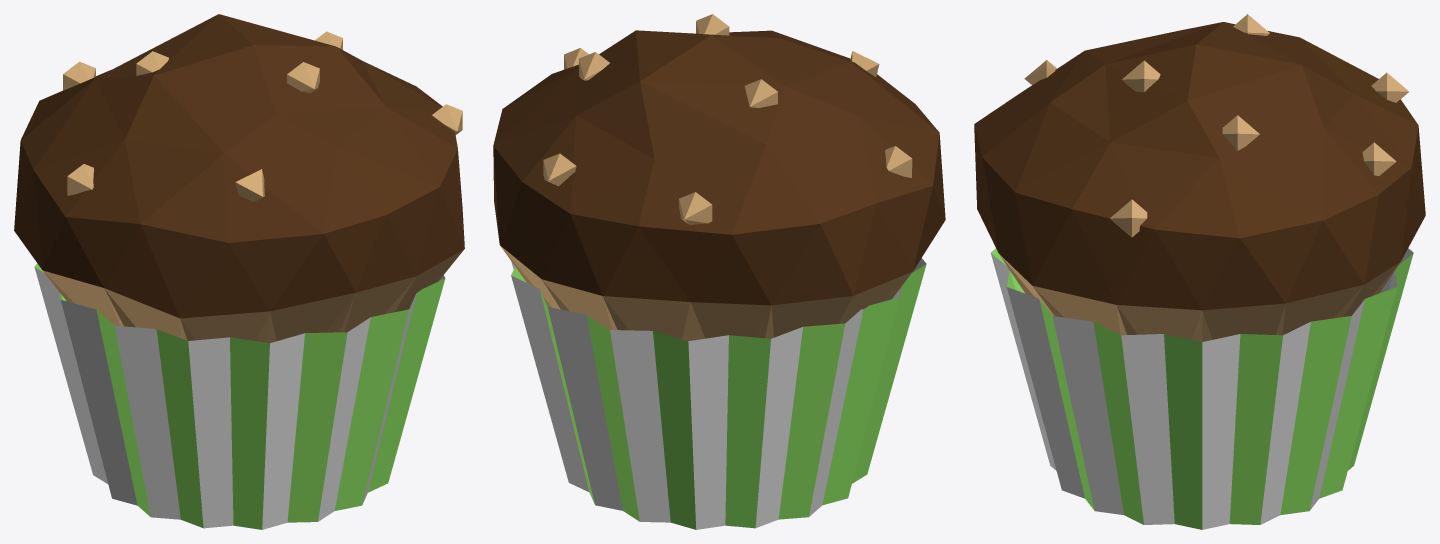
Rendered from muffin_choco_nuts.fbx.
3 renders of one model, left to right at view 1: azimuth 30°, elevation 25°; view 2: azimuth 150°, elevation 25°; view 3: azimuth 270°, elevation 25°, orthographic.
Parts seen in each view (by area): view 1: muffin_chotco_nuts; view 2: muffin_chotco_nuts; view 3: muffin_chotco_nuts.
Part boxes in pixels (x1,y1,x2,y2): muffin_chotco_nuts: (14, 14, 464, 529); muffin_chotco_nuts: (493, 14, 945, 529); muffin_chotco_nuts: (974, 14, 1425, 529).
Bounding box in the file's own units: 6.48 × 6.69 × 6.44.
